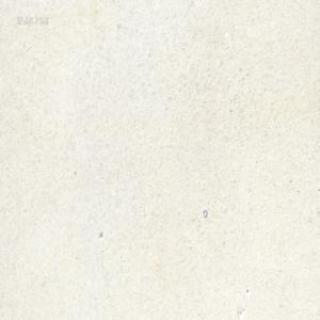Washertrack_idkeyframe: (201, 208, 207, 218)
